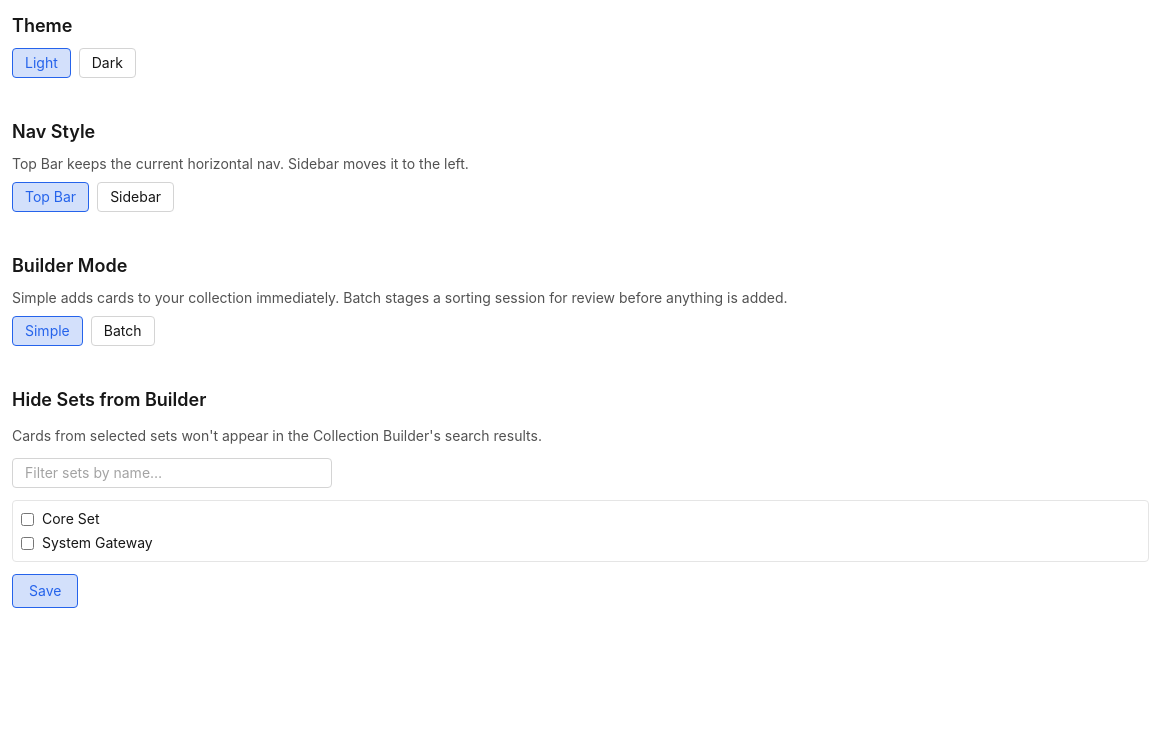
it: SettingsForm › shows a status message after a successful save
Click the button "Save" at (45, 591), box [12,574,78,608]
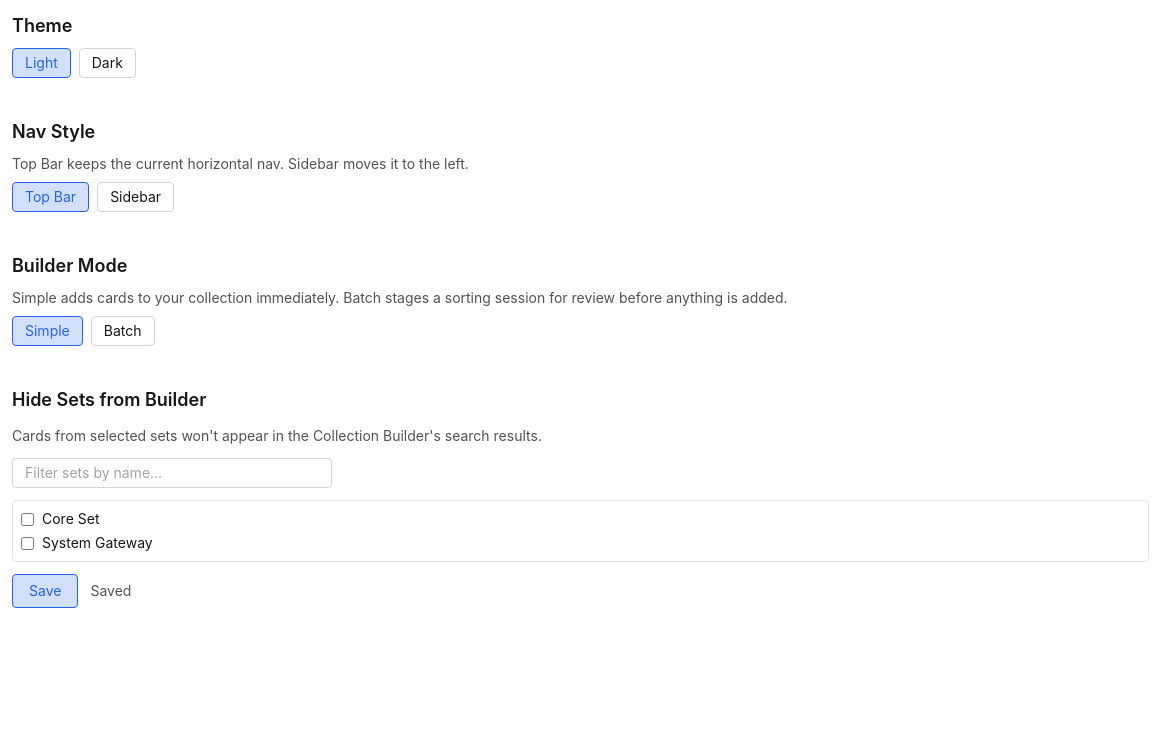
Expected: the text "Saved" is shown, [90,581,131,601]
